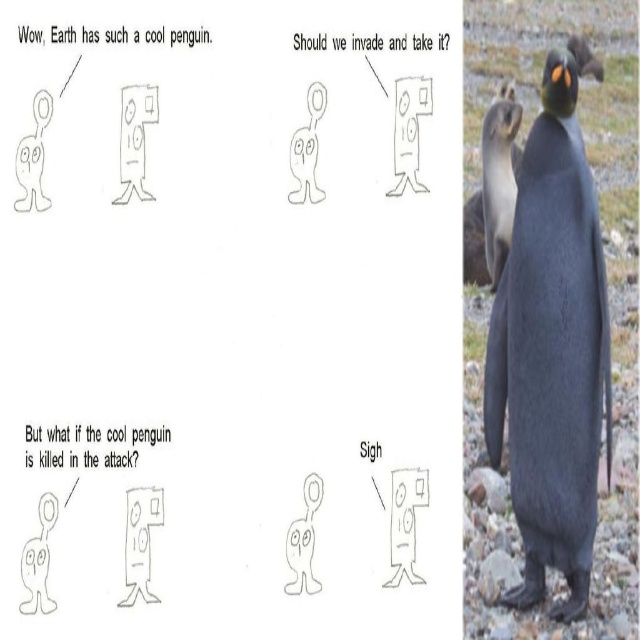Penguin: (487, 52, 608, 622)
